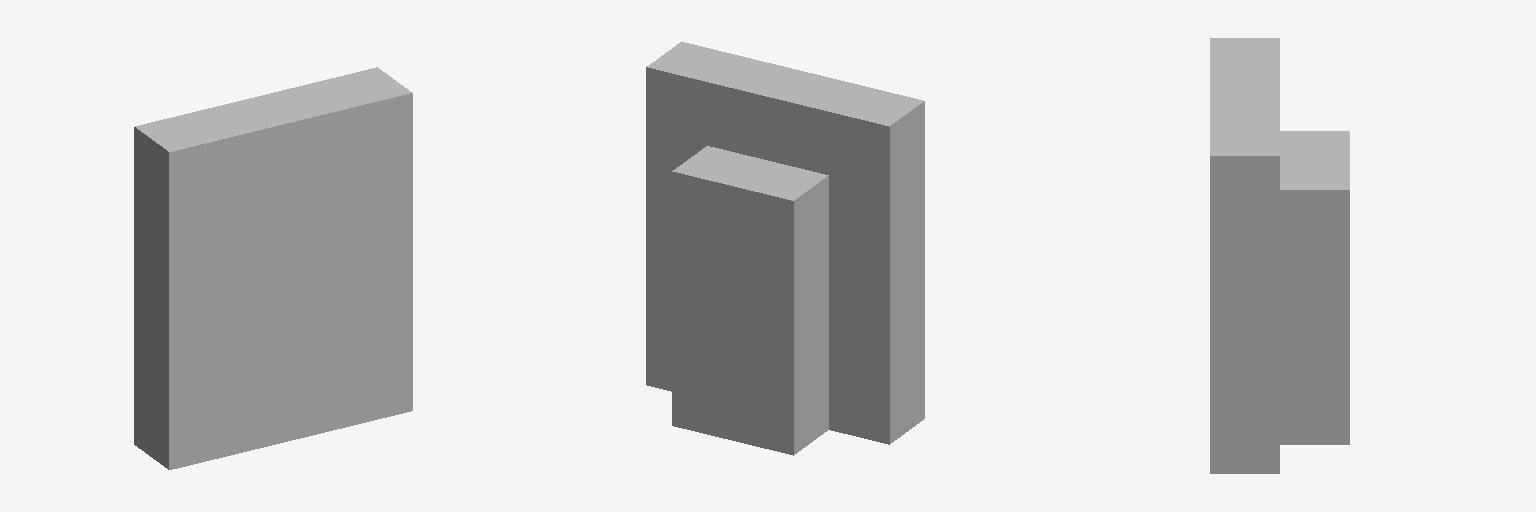
Rendered from 3D Voxel Office Pack-28.obj.
The picture shows the model from 3 angles: view 1: azimuth 30°, elevation 25°; view 2: azimuth 150°, elevation 25°; view 3: azimuth 270°, elevation 25°; orthographic projection.
Parts seen in each view (by area): view 1: object 1; view 2: object 1; view 3: object 1.
Part boxes in pixels (x1,y1,x2,y2): object 1: (134,67,412,469); object 1: (646,42,924,455); object 1: (1210,38,1349,473).
Size of the model in its own units: 0.4 by 0.5 by 0.2.